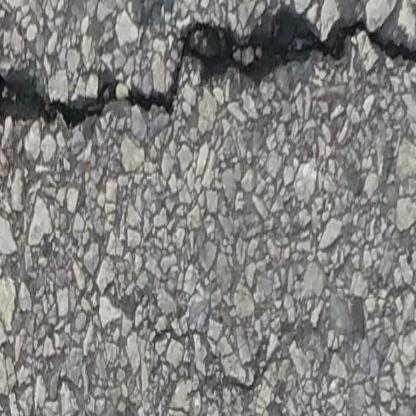Cracks: (0, 15, 416, 123)
